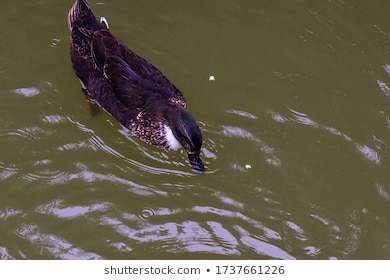duck: (58, 1, 247, 172)
